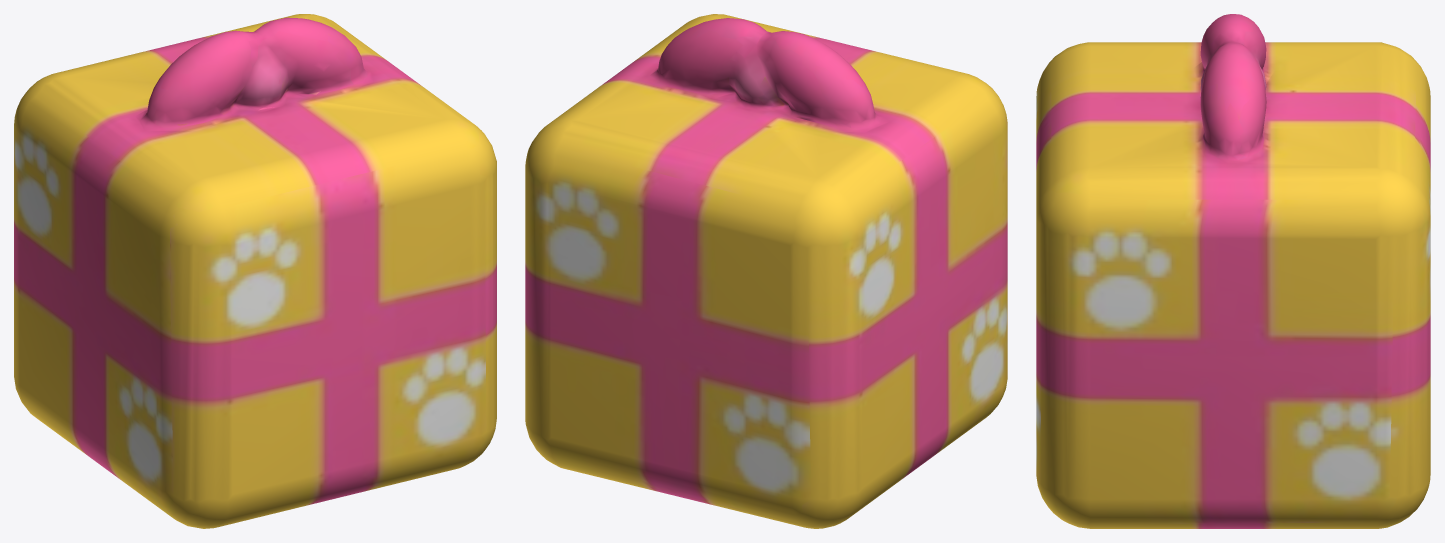
File: item.itembox.glb
3 renders of one model, left to right at view 1: azimuth 30°, elevation 25°; view 2: azimuth 150°, elevation 25°; view 3: azimuth 270°, elevation 25°, orthographic. The views are drawn at different scales.
Parts seen in each view (by area): view 1: itembox; view 2: itembox; view 3: itembox.
Boxes of the visible parts, x1,y1,x2,y2 form: itembox: (14, 14, 496, 528); itembox: (525, 14, 1007, 528); itembox: (1036, 14, 1430, 528).
Bounding box in the file's own units: 0.84 × 1.01 × 0.84.
1 material, 1 textured.
